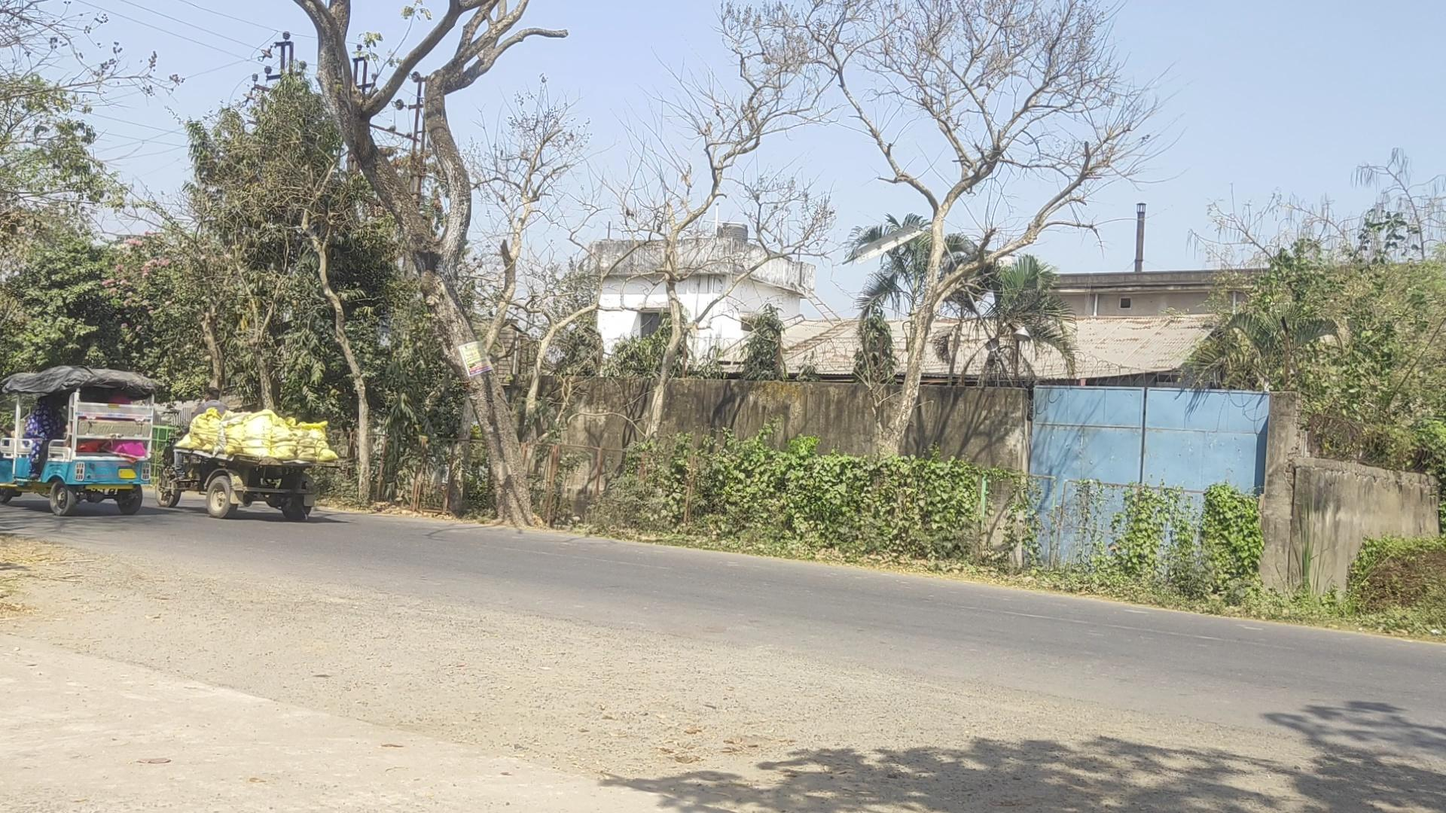Auto: (1, 367, 157, 517)
